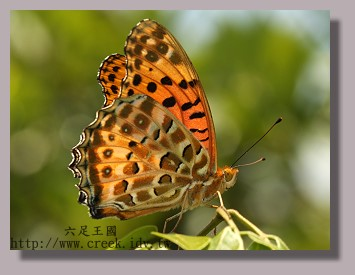Argyreus hyperbius: (65, 12, 281, 235)
butterfly: (67, 14, 283, 237)
